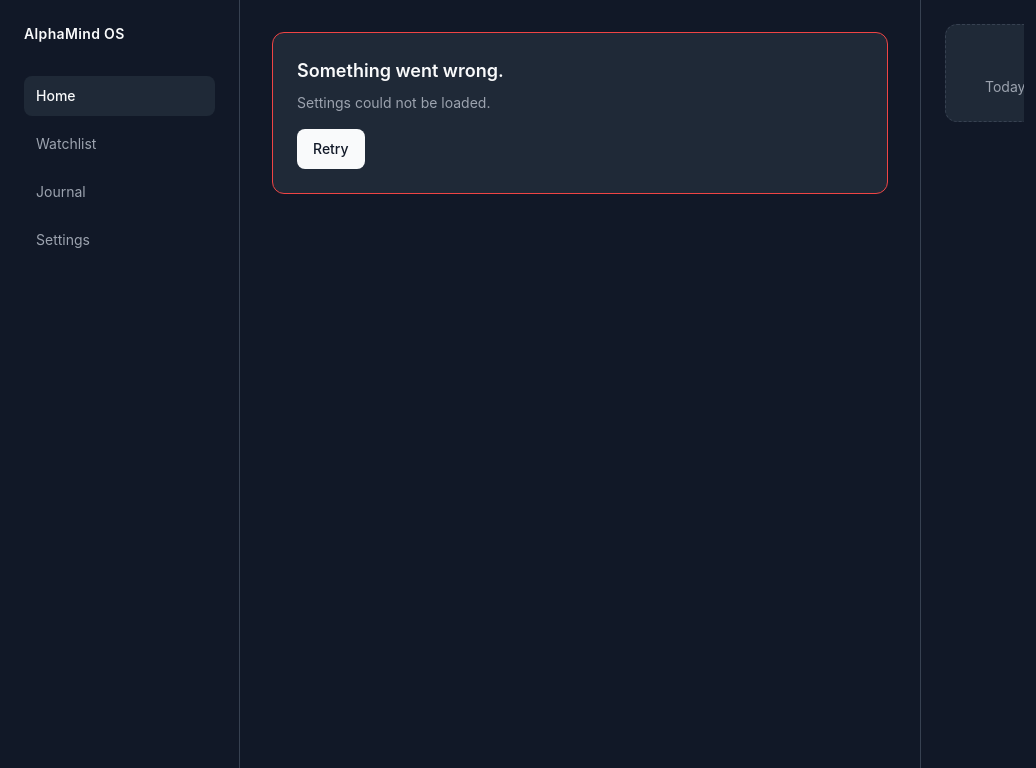
SettingsPage › retries a load error
Click the button "Retry". click: (331, 149)
box: top-left (297, 129), bottom-right (365, 169)
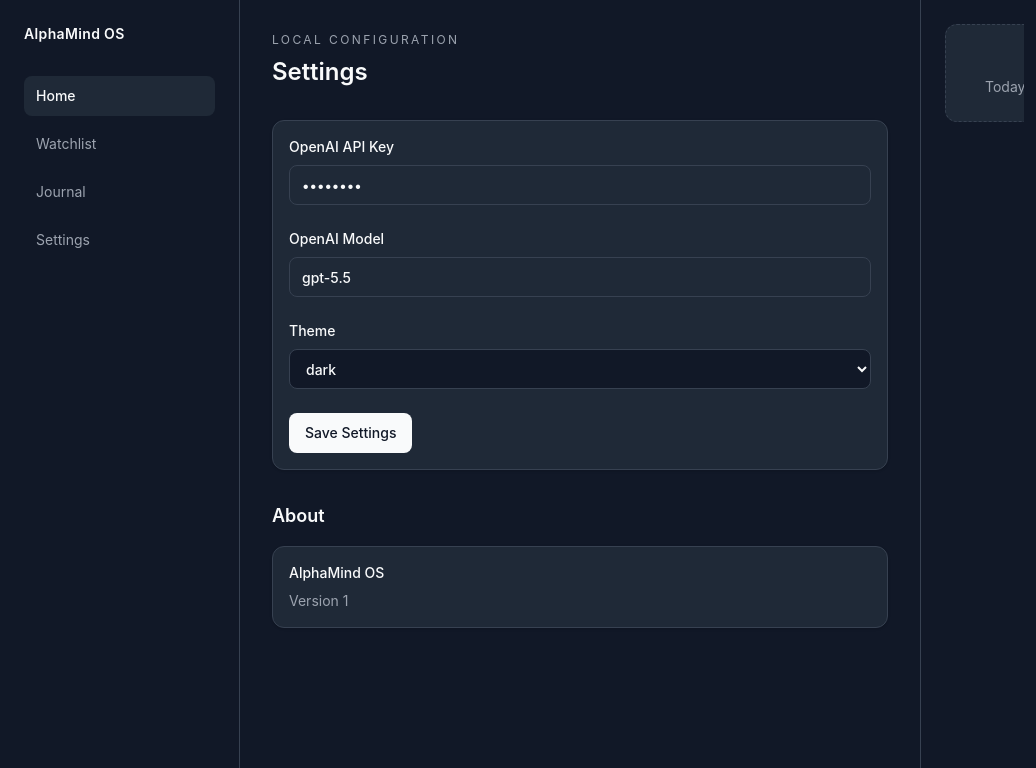
Now the heading "Settings" is shown, box top-left (272, 57), bottom-right (368, 86)
